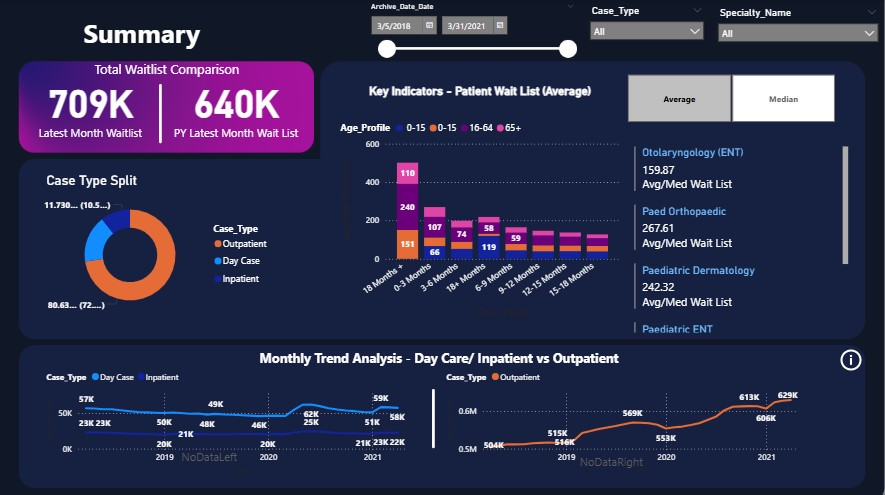

Layout of this report page (visuals, bound fields, positions):
{"tool":"powerbi","page":{"name":"Summary","canvas":[1280,720],"ordinal":0},"visuals":[{"type":"card","fields":{"Values":["All_Data.Latest Month Waitlist"]},"box":[28.6,84,203.3,142.8],"z":0},{"type":"card","fields":{"Values":["All_Data.PY Latest Month Wait List"]},"box":[231.8,84,220.1,142.8],"z":1000},{"type":"slicer","fields":{"Values":["Calculation_Method.Calc_Method"]},"box":[881.9,102.5,349.4,82.3],"z":2000},{"type":"donutChart","title":"Case Type Split","fields":{"Category":["All_Data.Case_Type"],"Y":["All_Data.Avg/Med Wait List"]},"box":[62.2,252,337.6,215],"z":3000},{"type":"columnChart","title":"Time Bands vs Age Profile","fields":{"Y":["All_Data.Avg/Med Wait List"],"Category":["All_Data.Time_Bands"],"Series":["All_Data.Age_Profile"]},"box":[487.1,166.3,413.2,300.7],"z":4000},{"type":"card","fields":{"Values":["All_Data.NoDataLeft"]},"box":[204.9,556,194.9,132.7],"z":4500},{"type":"multiRowCard","fields":{"Values":["All_Data.Speciality_Name","All_Data.Avg/Med Wait List"]},"box":[912.1,208.3,319.2,278.8],"z":5000},{"type":"lineChart","fields":{"Y":["Sum(All_Data.Total)"],"Category":["All_Data.Archive_Date_Date.Variation.Date Hierarchy.Year","All_Data.Archive_Date_Date.Variation.Date Hierarchy.Quarter","All_Data.Archive_Date_Date.Variation.Date Hierarchy.Month","All_Data.Archive_Date_Date.Variation.Date Hierarchy.Day"],"Series":["All_Data.Case_Type"]},"box":[62.2,525.8,530.8,162.9],"z":6000},{"type":"card","fields":{"Values":["All_Data.NoDataRight"]},"box":[786.1,564.4,194.9,132.7],"z":7000},{"type":"lineChart","fields":{"Y":["Sum(All_Data.Total)"],"Series":["All_Data.Case_Type"],"Category":["All_Data.Archive_Date_Date.Variation.Date Hierarchy.Year","All_Data.Archive_Date_Date.Variation.Date Hierarchy.Quarter","All_Data.Archive_Date_Date.Variation.Date Hierarchy.Month","All_Data.Archive_Date_Date.Variation.Date Hierarchy.Day"]},"box":[640,525.8,520.7,162.9],"z":8000},{"type":"slicer","fields":{"Values":["All_Data.Archive_Date_Date"]},"box":[524.1,0,319.2,102.5],"z":9000},{"type":"slicer","fields":{"Values":["All_Data.Case_Type"]},"box":[843.3,5,184.8,79],"z":10000},{"type":"slicer","fields":{"Values":["All_Data.Specialty_Name"]},"box":[1028,6.7,252,77.3],"z":11000},{"type":"textbox","box":[10.1,18.5,389.7,65.5],"z":12000},{"type":"shape","box":[82.3,122.6,299,85.7],"z":13000},{"type":"shape","box":[477.1,564.4,299,85.7],"z":14000},{"type":"textbox","box":[369.6,502.3,611.4,35.3],"z":15000},{"type":"textbox","box":[131,84,238.5,38.6],"z":16000},{"type":"card","fields":{"Values":["All_Data.Dynamic Title"]},"box":[487.1,100.8,413.2,65.5],"z":17000},{"type":"actionButton","box":[1209.6,501.8,44,40.5],"z":17001}]}

Visuals, with their boxes in screenshot pixels (x1, y1, x2, y2), scaled from the page's 1280x720 canvas onto the 885x495 screenshot:
card - All_Data.Latest Month Waitlist: bbox=[20, 58, 160, 156]
card - All_Data.PY Latest Month Wait List: bbox=[160, 58, 312, 156]
slicer - Calculation_Method.Calc_Method: bbox=[610, 70, 851, 127]
"Case Type Split" donutChart: bbox=[43, 173, 276, 321]
"Time Bands vs Age Profile" columnChart: bbox=[337, 114, 622, 321]
card - All_Data.NoDataLeft: bbox=[142, 382, 276, 473]
multiRowCard - All_Data.Speciality_Name x All_Data.Avg/Med Wait List: bbox=[631, 143, 851, 335]
lineChart - Sum(All_Data.Total) x All_Data.Archive_Date_Date.Variation.Date Hierarchy.Year: bbox=[43, 361, 410, 473]
card - All_Data.NoDataRight: bbox=[544, 388, 678, 479]
lineChart - Sum(All_Data.Total) x All_Data.Case_Type: bbox=[442, 361, 803, 473]
slicer - All_Data.Archive_Date_Date: bbox=[362, 0, 583, 70]
slicer - All_Data.Case_Type: bbox=[583, 3, 711, 58]
slicer - All_Data.Specialty_Name: bbox=[711, 5, 884, 58]
textbox: bbox=[7, 13, 276, 58]
shape: bbox=[57, 84, 264, 143]
shape: bbox=[330, 388, 537, 447]
textbox: bbox=[256, 345, 678, 370]
textbox: bbox=[91, 58, 255, 84]
card - All_Data.Dynamic Title: bbox=[337, 69, 622, 114]
actionButton: bbox=[836, 345, 867, 373]
